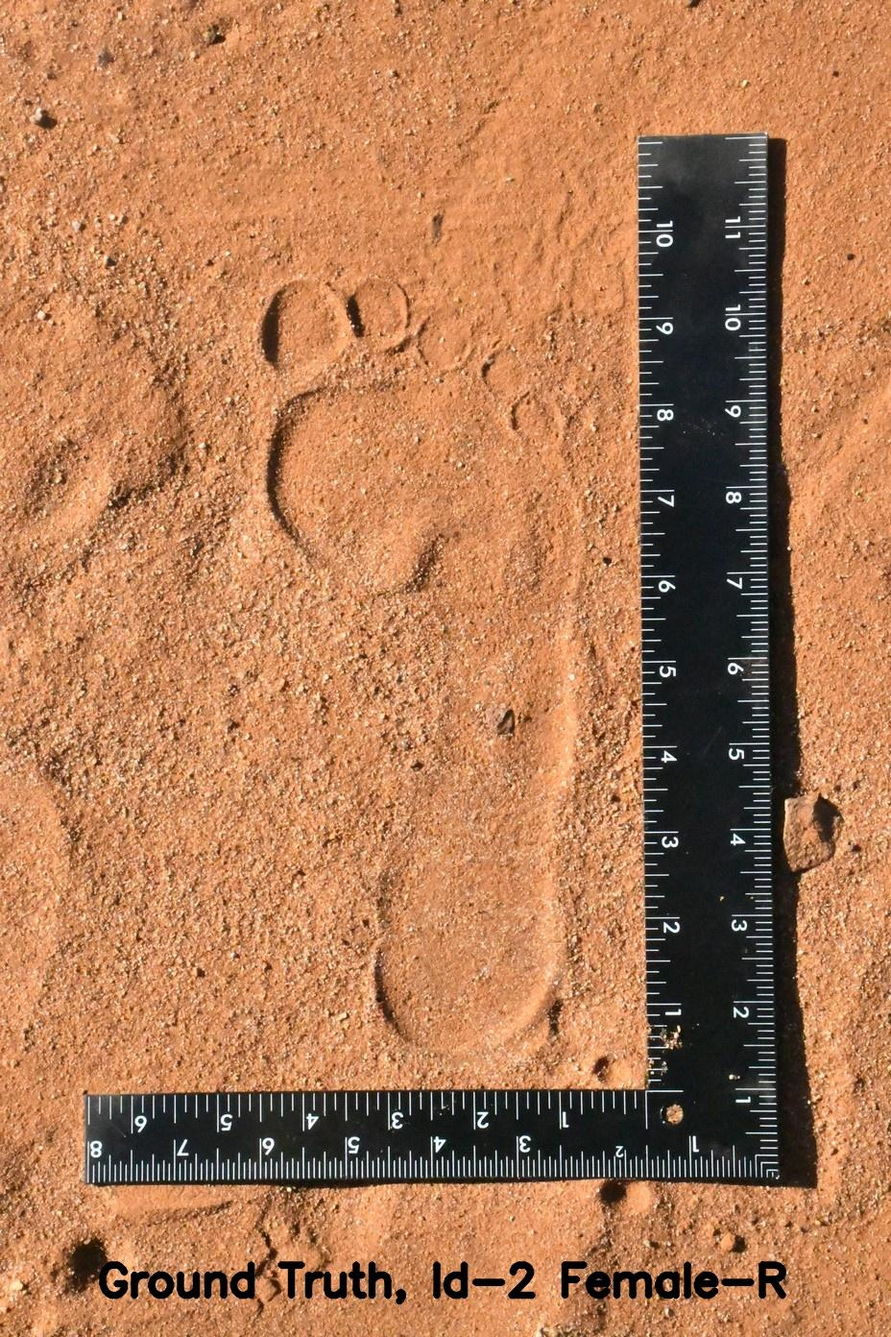human_footprint: (183, 219, 615, 1072)
